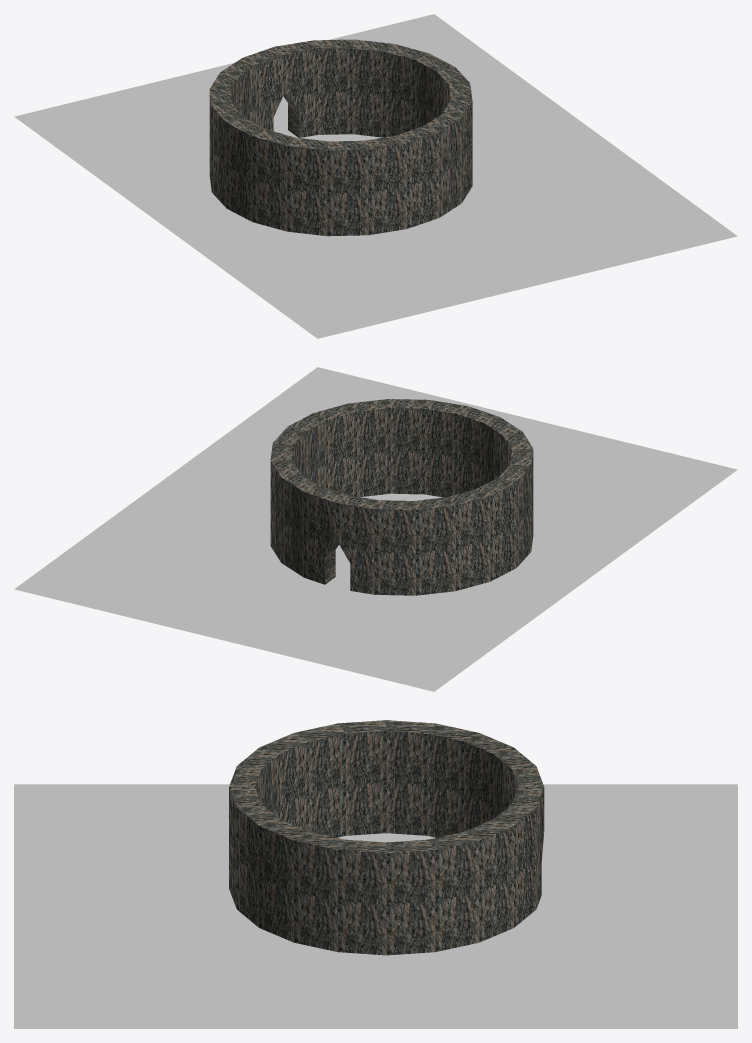
File: CollusseumFBXTest.fbx
3 views of the same model, one above another, from view 1: azimuth 30°, elevation 25°; view 2: azimuth 150°, elevation 25°; view 3: azimuth 270°, elevation 25° (orthographic). The views are drawn at different scales.
Parts seen in each view (by area): view 1: pPlane1, polySurface2; view 2: pPlane1, polySurface2; view 3: pPlane1, polySurface2.
Boxes of the visible parts, x1,y1,x2,y2 form: pPlane1: [14, 14, 737, 338]; polySurface2: [209, 39, 472, 236]; pPlane1: [14, 367, 737, 691]; polySurface2: [270, 399, 533, 595]; pPlane1: [14, 784, 737, 1028]; polySurface2: [229, 720, 544, 955].
Bounding box in the file's own units: 57.7 × 11.24 × 72.21.
